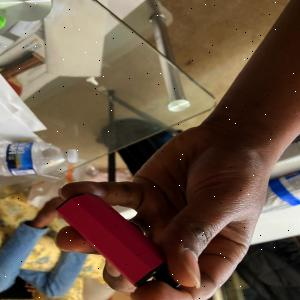Blume-E-Ciggirate: (53, 190, 194, 292)
